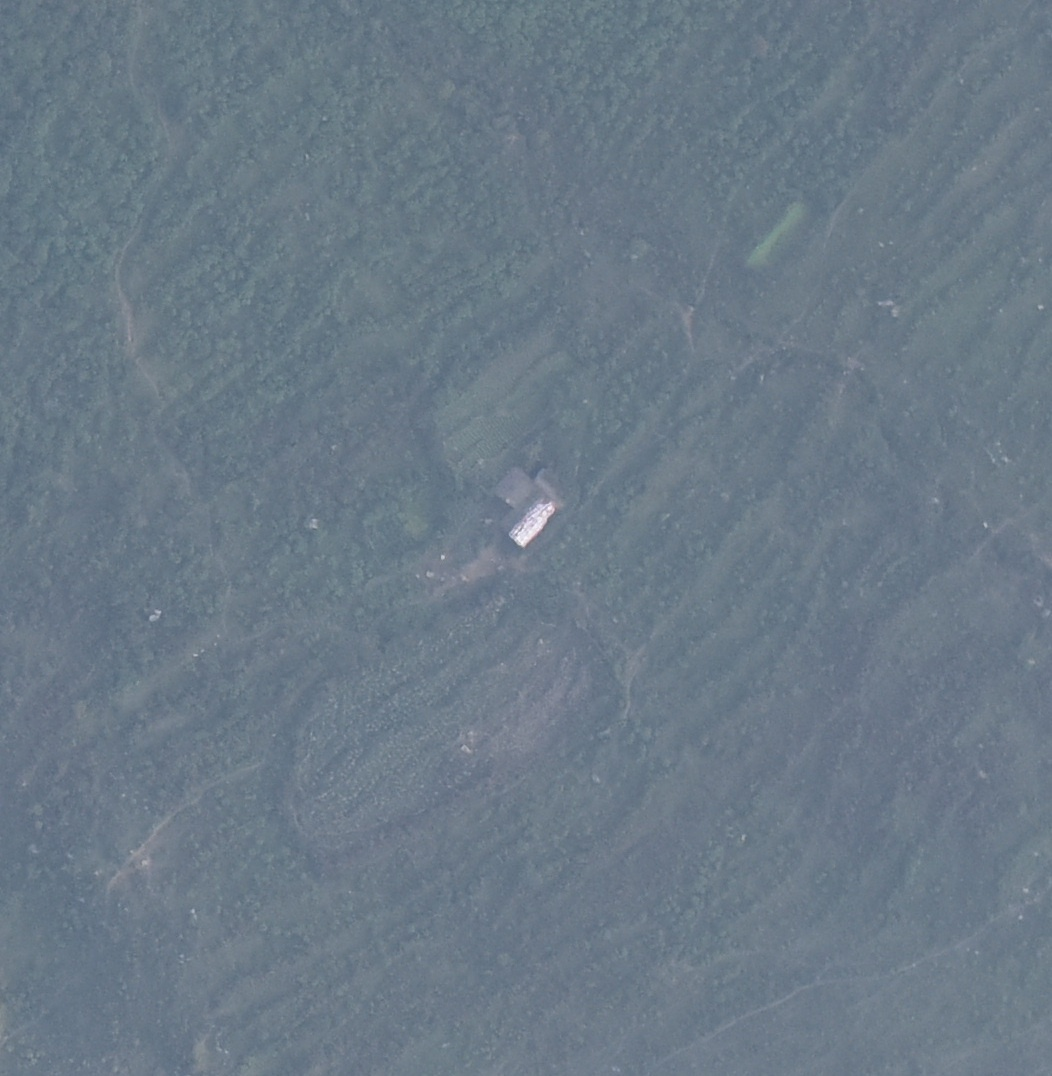building: (496, 467, 570, 547)
